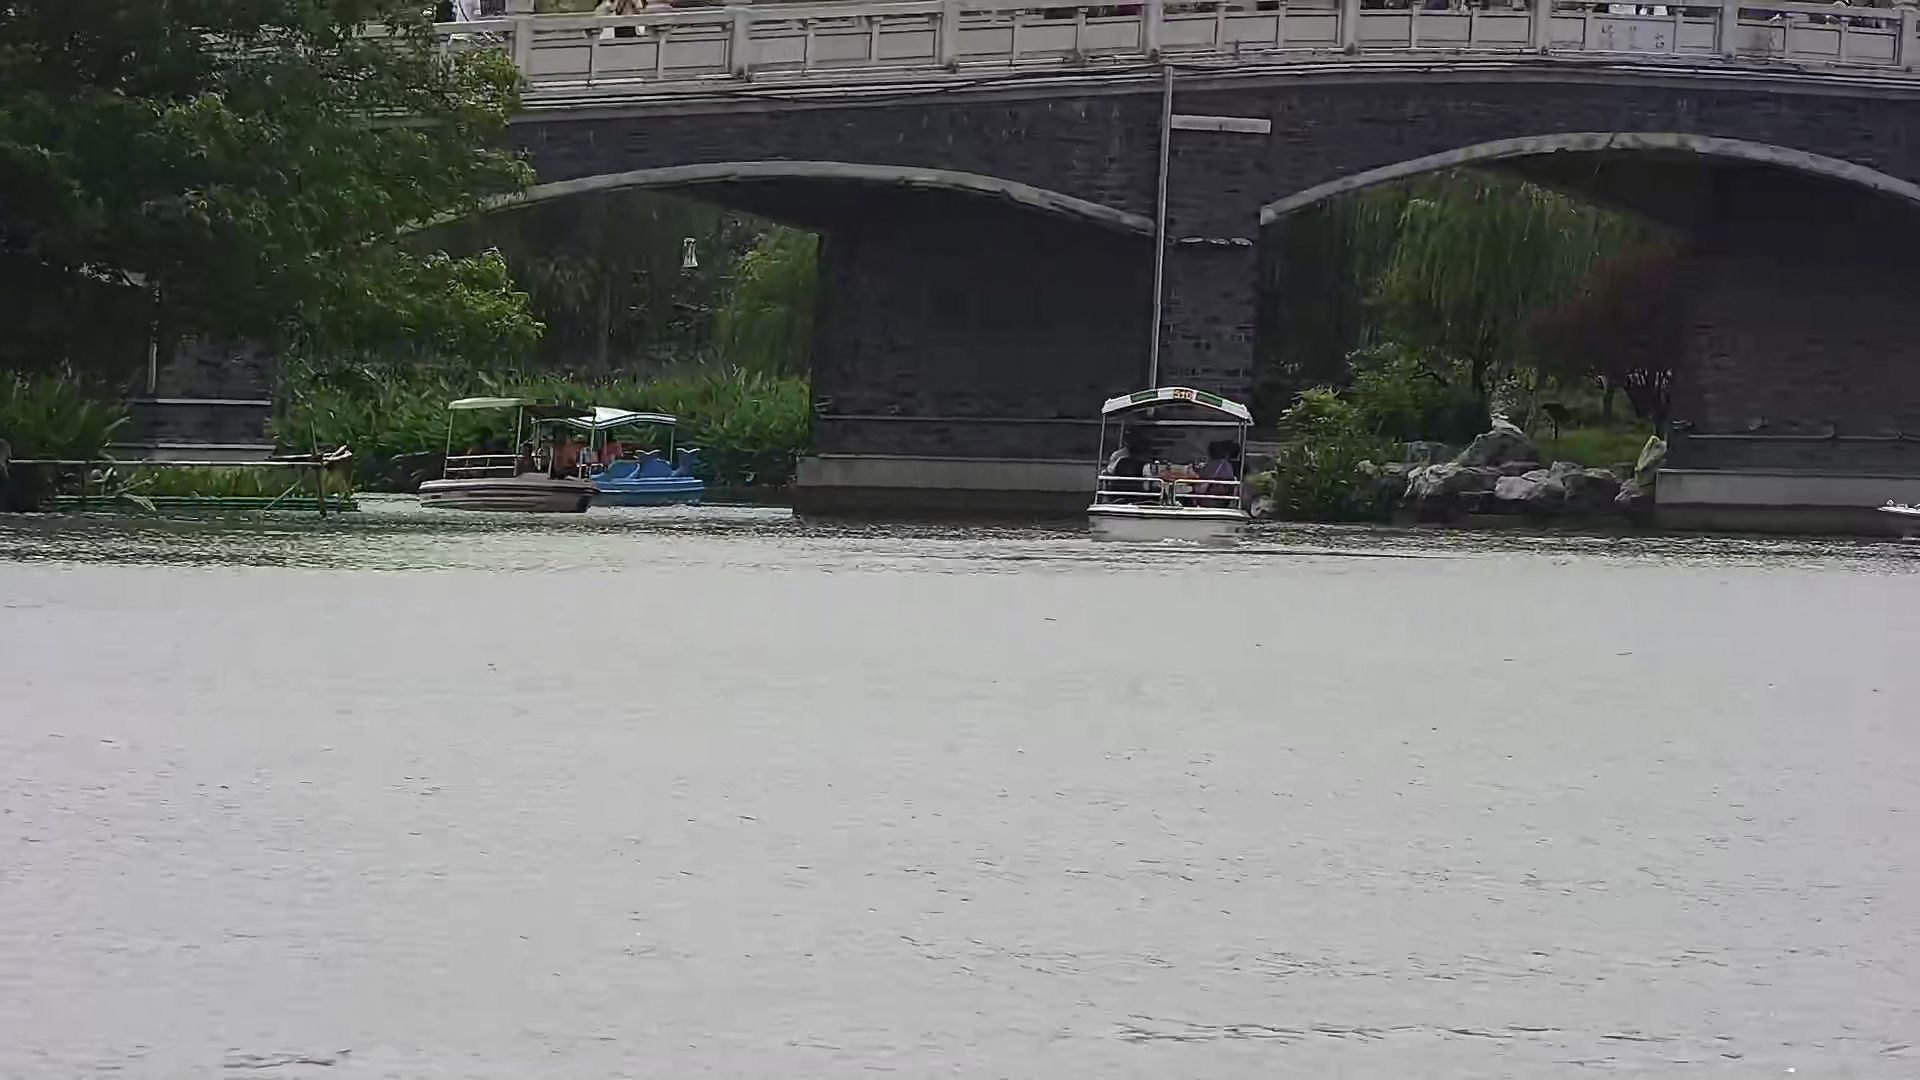boat: (1087, 381, 1251, 553), (418, 394, 591, 512), (545, 404, 711, 504)
bridge: (422, 4, 1911, 382)
